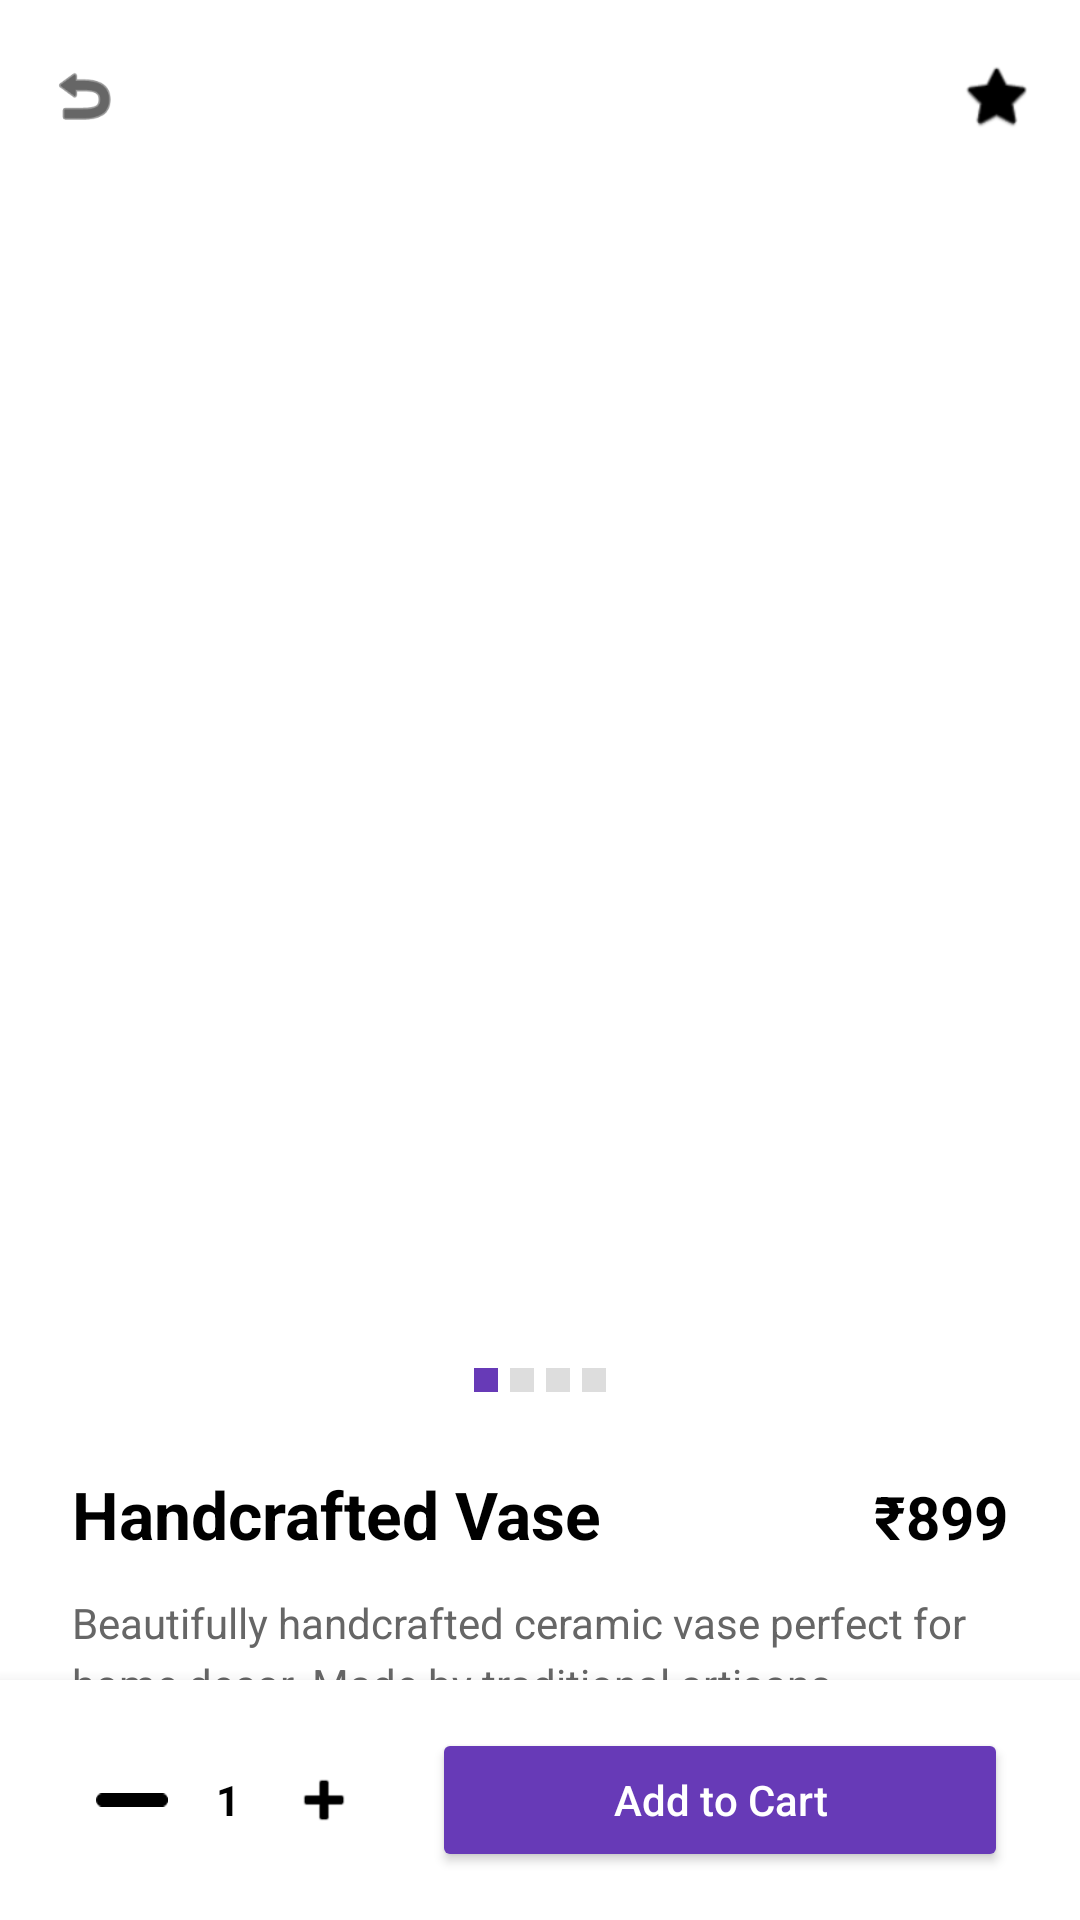

Icons on this 1080 × 1920 Android screen, each with its box as (x1, y1, x2, y2):
revert: (59, 73, 111, 120)
